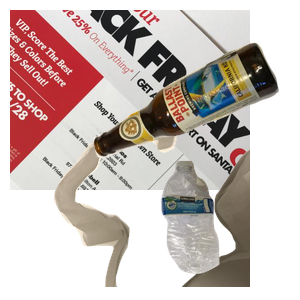glass: (91, 40, 300, 190)
paper: (10, 10, 250, 190)
plastic: (159, 158, 300, 300)
trash: (51, 120, 291, 300)
